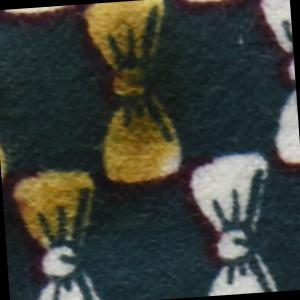Oil Stain: (1, 1, 200, 254)
